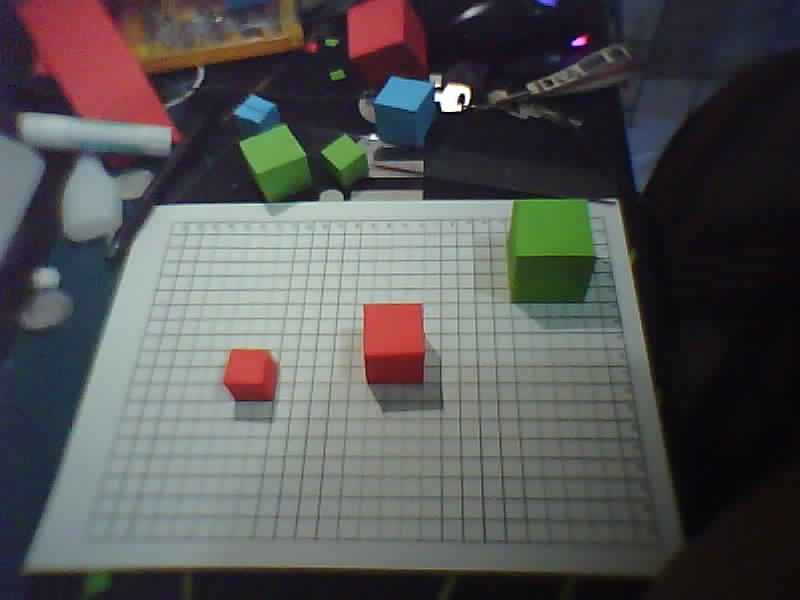LB: (83, 535, 91, 541)
LT: (169, 220, 177, 226)
RB: (656, 543, 664, 549)
RT: (598, 215, 606, 221)
